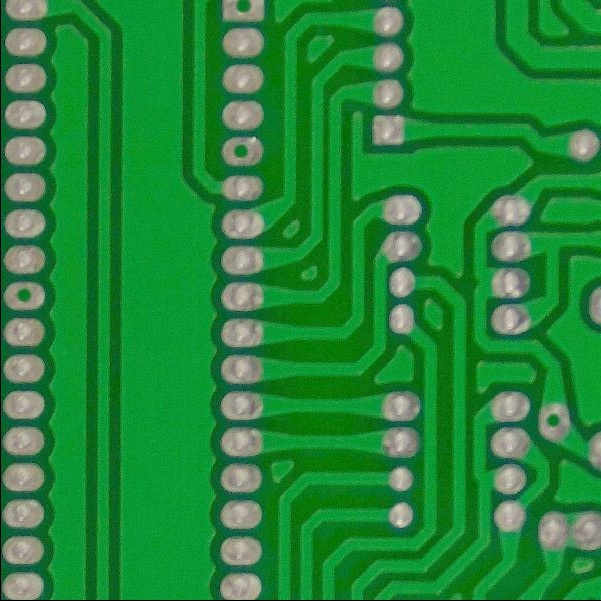missing_hole: (1, 276, 46, 319), (219, 134, 263, 172), (536, 401, 573, 444), (221, 1, 266, 28)
